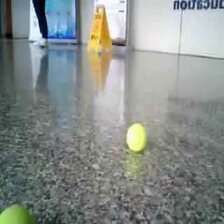tennis: (126, 124, 147, 151)
